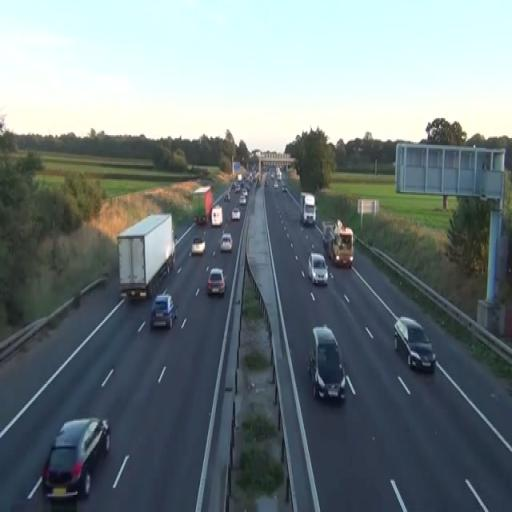Car: (42, 418, 112, 502), (307, 325, 346, 403), (393, 316, 436, 374), (150, 294, 177, 329), (308, 253, 328, 285), (207, 268, 225, 297), (210, 204, 224, 227), (192, 238, 205, 256), (220, 234, 232, 252), (230, 207, 241, 221)
Truck: (117, 213, 176, 302), (322, 218, 354, 268), (191, 186, 214, 226), (300, 193, 316, 227)
